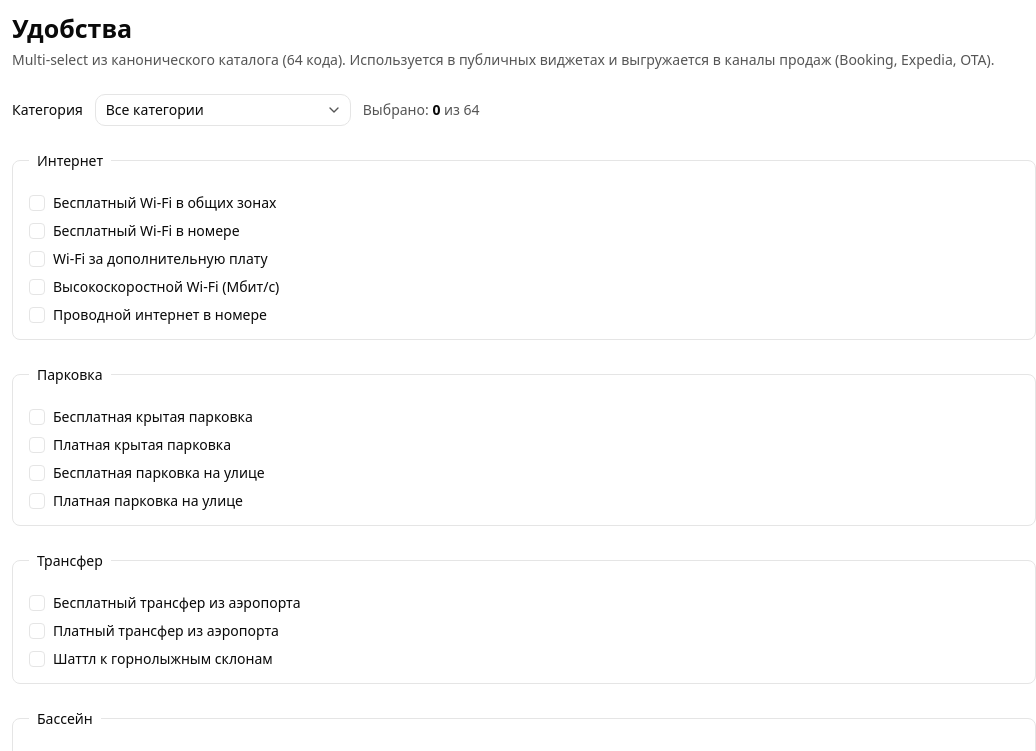
it: <AmenitiesStep> — toggle › [Tg2] uncheck → counter decrements back to 0
This screenshot has width=1036, height=751.
Click the checkbox named "Бесплатный Wi-Fi в общих зонах" next to "Бесплатный Wi-Fi в общих зонах" at (37, 202), box 29,194 -> 45,210
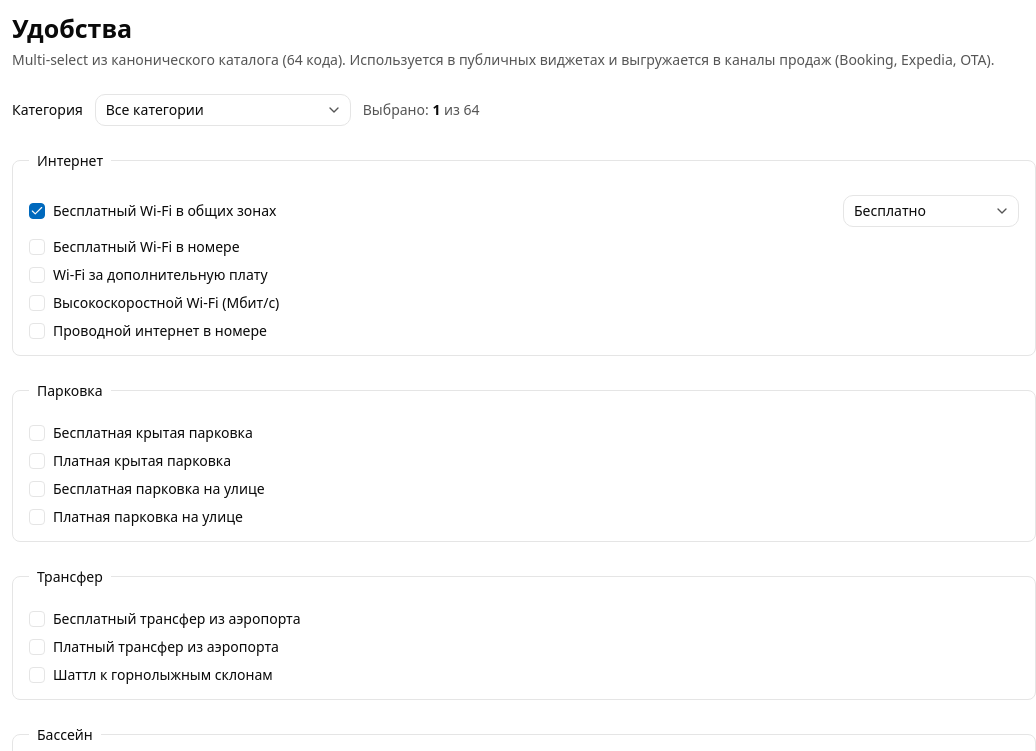
Click the checkbox named "Бесплатный Wi-Fi в общих зонах" next to "Бесплатный Wi-Fi в общих зонах" at (37, 210), box 29,202 -> 45,218
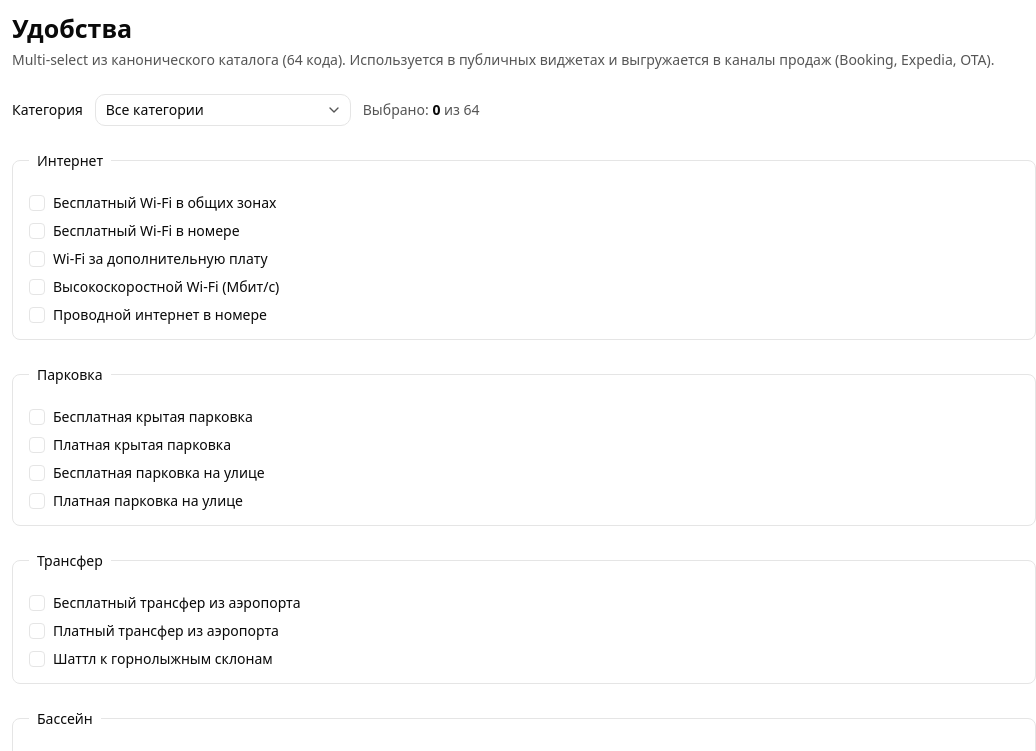
Expected: the text "0" is shown, 432,100 -> 440,119
